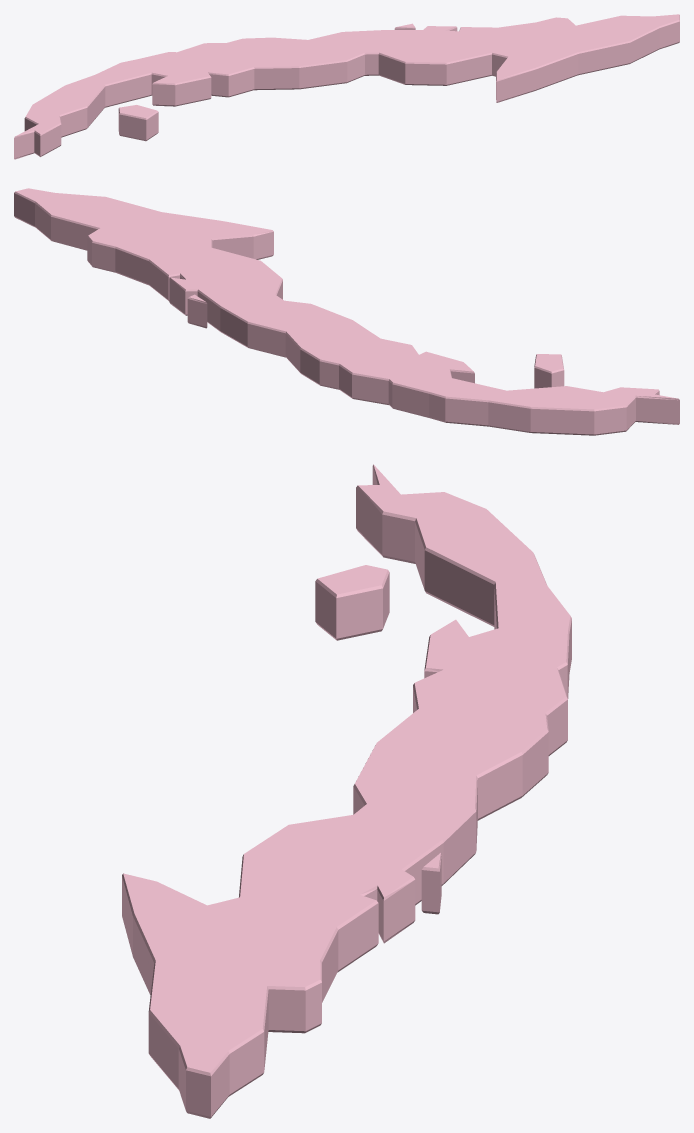
The model's file is CUB.glb.
The picture shows the model from 3 angles, top to bottom: view 1: azimuth 30°, elevation 25°; view 2: azimuth 150°, elevation 25°; view 3: azimuth 270°, elevation 25°; orthographic projection. The views are drawn at different scales.
Bounding box in the file's own units: 1.93 × 0.068 × 0.6016.
